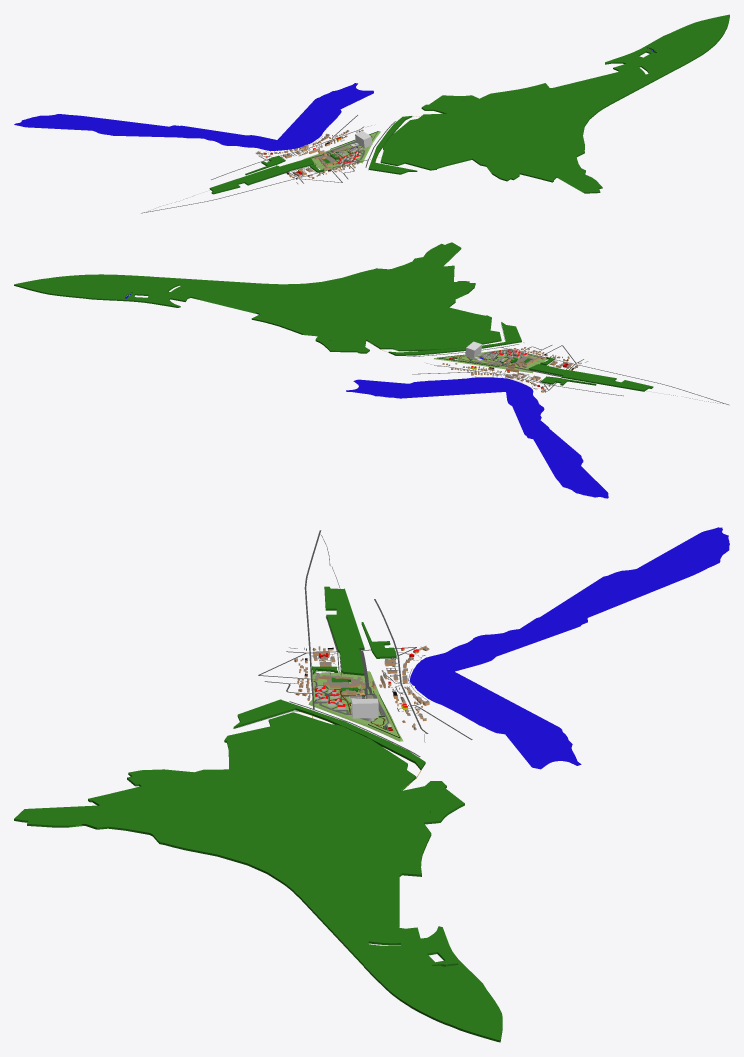
Rendered from MapTemp01.fbx.
3 views of the same model, one above another, from view 1: azimuth 30°, elevation 25°; view 2: azimuth 150°, elevation 25°; view 3: azimuth 270°, elevation 25° (orthographic). The views are drawn at different scales.
Visible parts, largest first — view 1: map.osm_forest, map.osm_water, map.osm_buildings, BackjardFloor, map.osm_roads_residential; view 2: map.osm_forest, map.osm_water, map.osm_buildings, BackjardFloor; view 3: map.osm_forest, map.osm_water, map.osm_buildings, BackjardFloor, map.osm_roads_residential.
Part boxes in pixels (box(x1,y1,x2,y2)): map.osm_forest: box(209, 14, 729, 194); map.osm_water: box(14, 49, 654, 150); map.osm_buildings: box(255, 129, 363, 179); BackjardFloor: box(303, 131, 380, 170); map.osm_roads_residential: box(141, 115, 368, 213); map.osm_forest: box(14, 242, 653, 391); map.osm_water: box(125, 293, 608, 498); map.osm_buildings: box(442, 347, 581, 392); BackjardFloor: box(434, 348, 546, 373); map.osm_forest: box(14, 586, 502, 1042); map.osm_water: box(409, 527, 729, 769); map.osm_buildings: box(294, 645, 429, 730); BackjardFloor: box(308, 671, 403, 741); map.osm_roads_residential: box(258, 530, 472, 739).
Size of the model in its own units: 540462 by 9416 by 317356.
